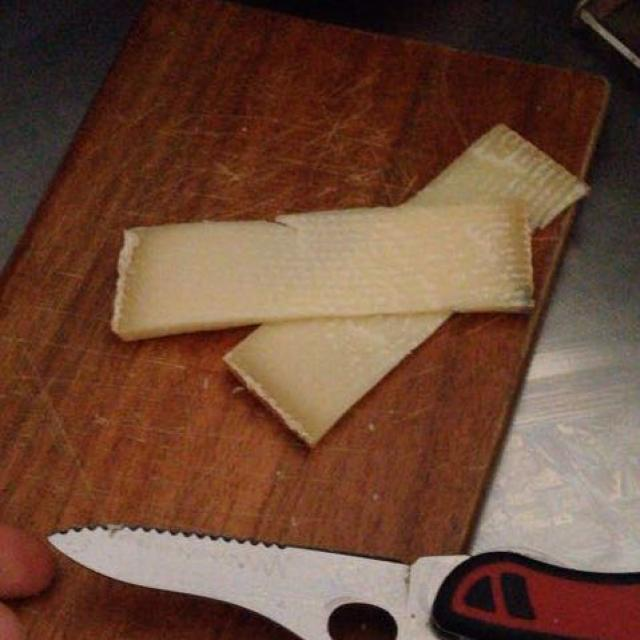gruyere: (117, 126, 587, 445)
